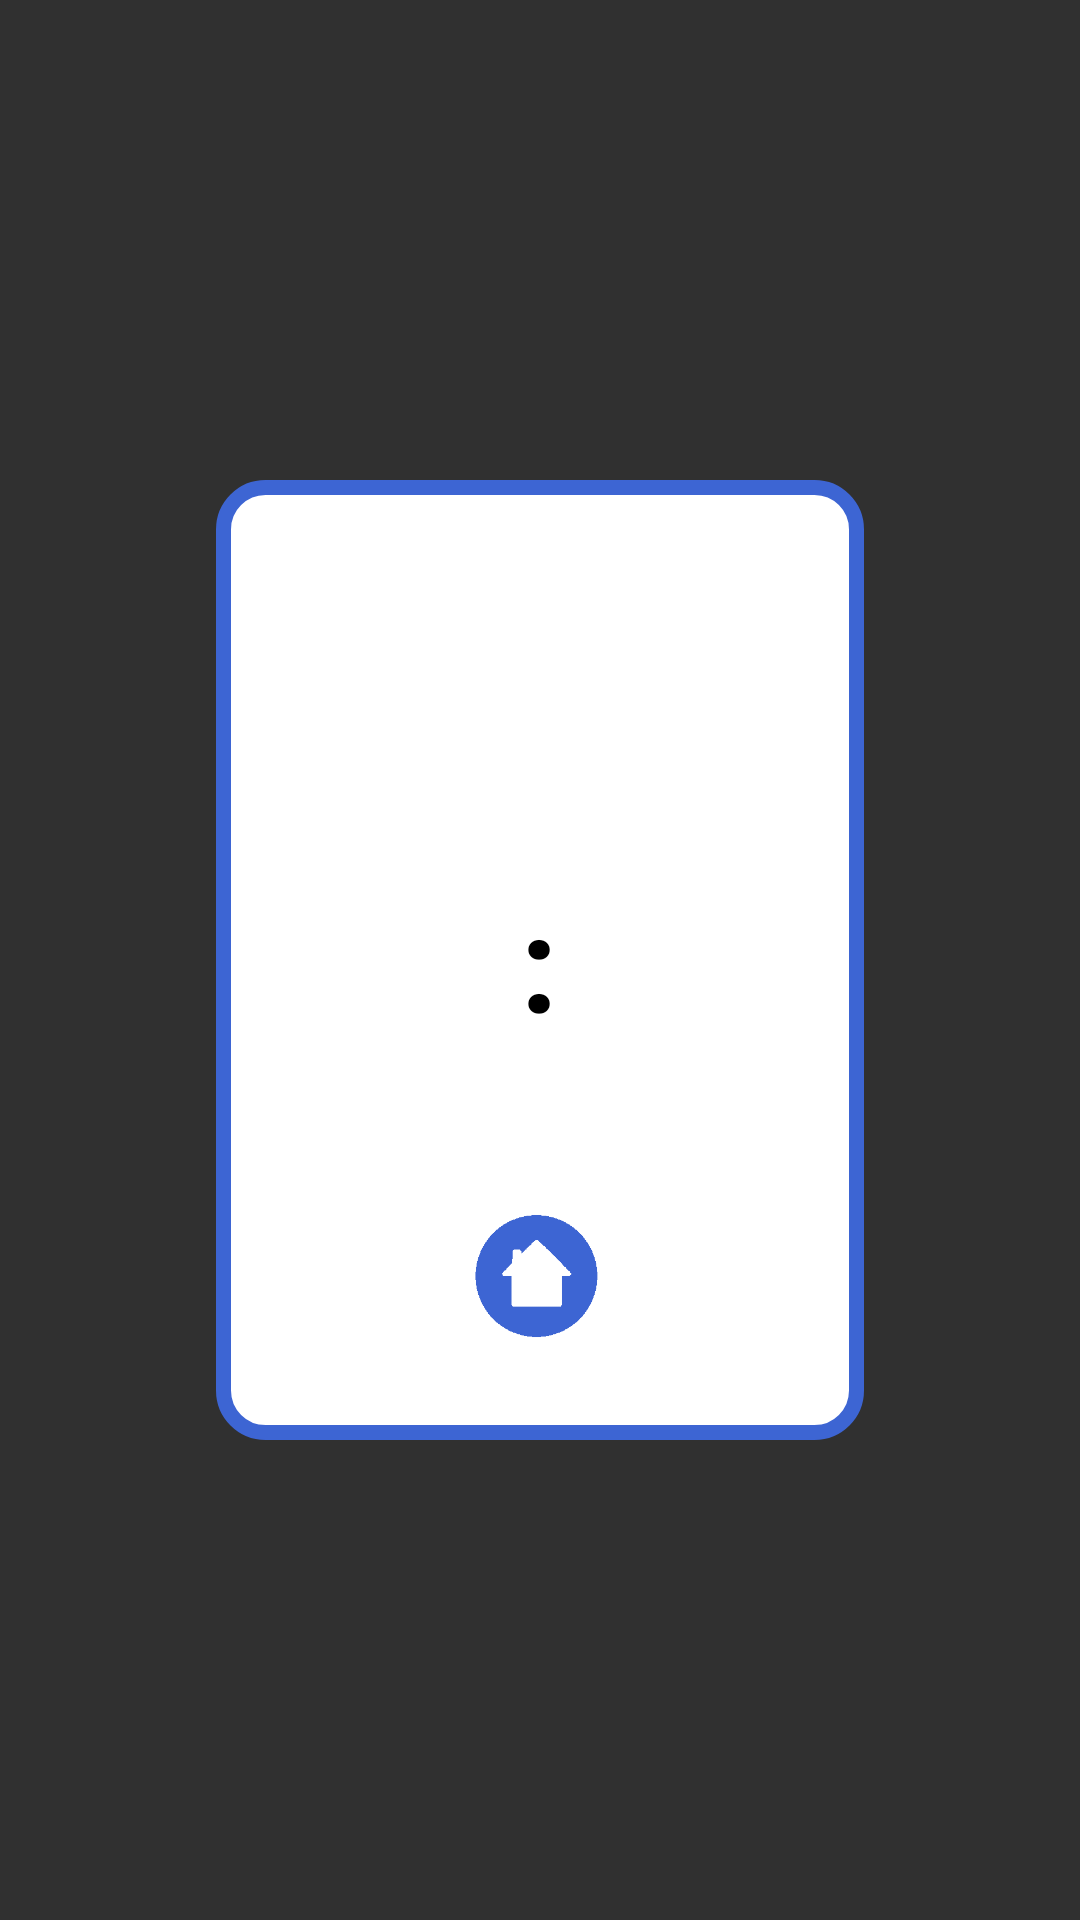

Icons on this 1080px x 1920px Android screen, each with its box as (left=x1, top=y1, right=x2, bottom=y2):
home: (left=475, top=1215, right=598, bottom=1337)
